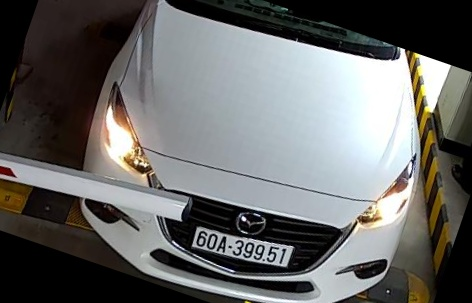plate: (192, 221, 295, 269)
